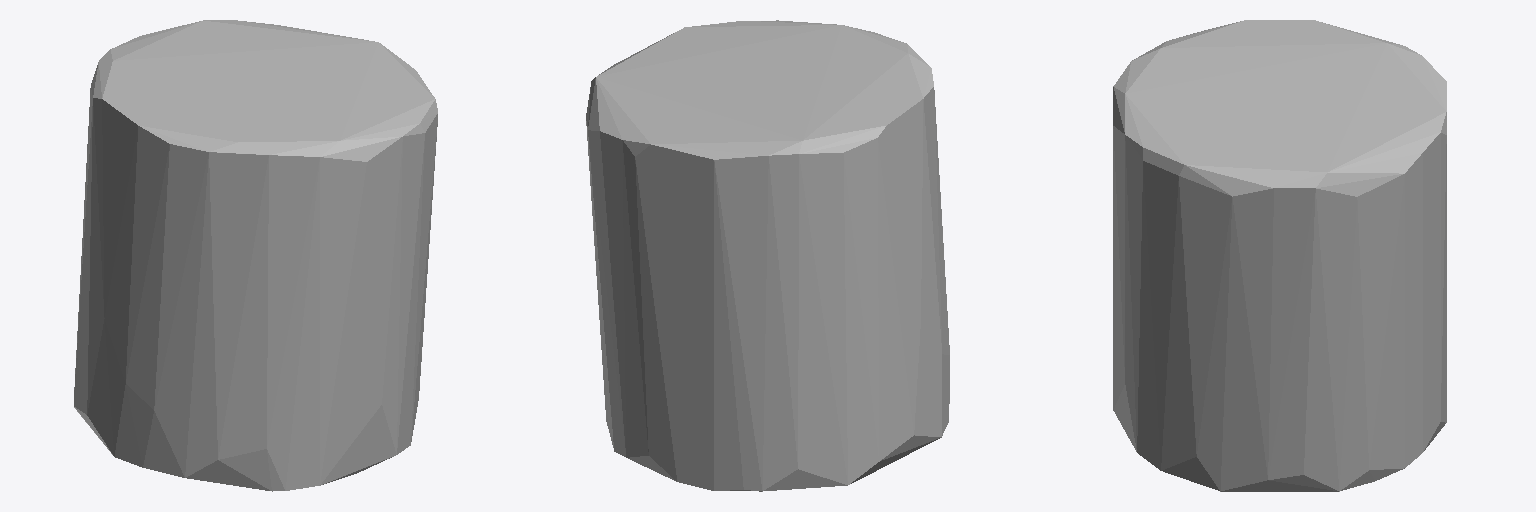
robot.urdf — root:
<robot name="root">
  <link name="link_kit~SauerkrautSmall_800_tex_convex_piece_0">
    <inertial>
      <origin rpy="0 0 0" xyz="0 0 0"/>
      <mass value="4.34E-01"/>
      <inertia ixx="1.96E-04" ixy="6.89E-08" ixz="2.80E-06" iyy="1.97E-04" iyz="-2.38E-07" izz="1.54E-04"/>
    </inertial>
    <visual>
      <origin rpy="0 0 0" xyz="0 0 0"/>
      <geometry>
        <mesh filename="kit~SauerkrautSmall_800_tex_convex_piece_0.obj" scale="1.0000E+00 1.0000E+00 1.0000E+00"/>
      </geometry>
      <material name="">
        <color rgba="7.50E-01 7.50E-01 7.50E-01 1"/>
      </material>
    </visual>
    <collision>
      <origin rpy="0 0 0" xyz="0 0 0"/>
      <geometry>
        <mesh filename="kit~SauerkrautSmall_800_tex_convex_piece_0.obj" scale="1.0000E+00 1.0000E+00 1.0000E+00"/>
      </geometry>
    </collision>
  </link>
</robot>

--- Render facts (derived) ---
3 views of the same robot in one strip: view 1: azimuth 30°, elevation 25°; view 2: azimuth 150°, elevation 25°; view 3: azimuth 270°, elevation 25° (orthographic).
Model root with 1 links and 0 joints (none), rooted at link_kit~SauerkrautSmall_800_tex_convex_piece_0, posed every joint at zero.
Visible links, largest first — view 1: link_kit~SauerkrautSmall_800_tex_convex_piece_0; view 2: link_kit~SauerkrautSmall_800_tex_convex_piece_0; view 3: link_kit~SauerkrautSmall_800_tex_convex_piece_0.
Boxes of the visible links, x1,y1,x2,y2 form: link_kit~SauerkrautSmall_800_tex_convex_piece_0: (74,20,437,491); link_kit~SauerkrautSmall_800_tex_convex_piece_0: (586,20,949,491); link_kit~SauerkrautSmall_800_tex_convex_piece_0: (1113,20,1446,491).
Size in the robot's own frame: 0.0564 by 0.0526 by 0.0601 metres.
Meshes: 1 distinct files referenced, 1 mesh visuals loaded (1 OBJ).
